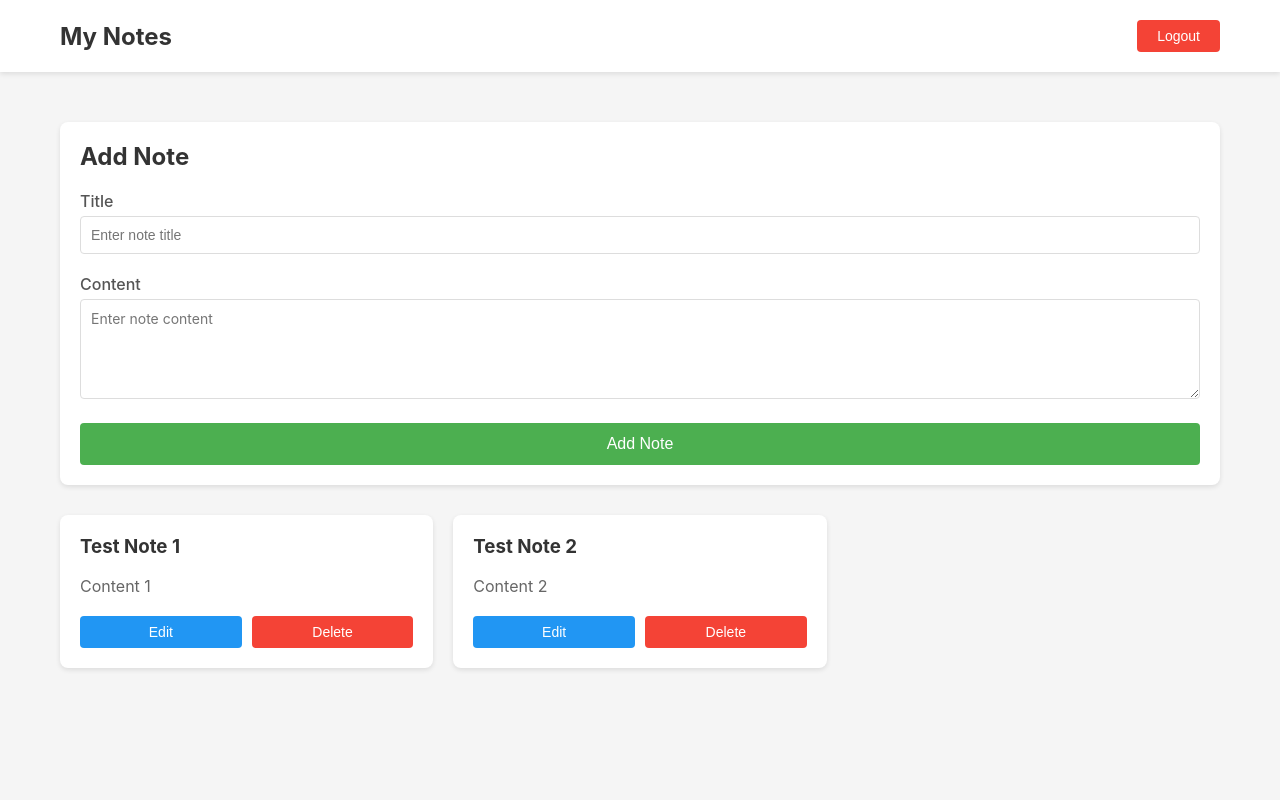
Scenario: NotesPage › deletes a note
This screenshot has width=1280, height=800.
Expected: the heading "Test Note 1" is shown, [80,535,180,558]
Click the button "Delete" below "Content 1": (333, 632) [252,616,413,648]
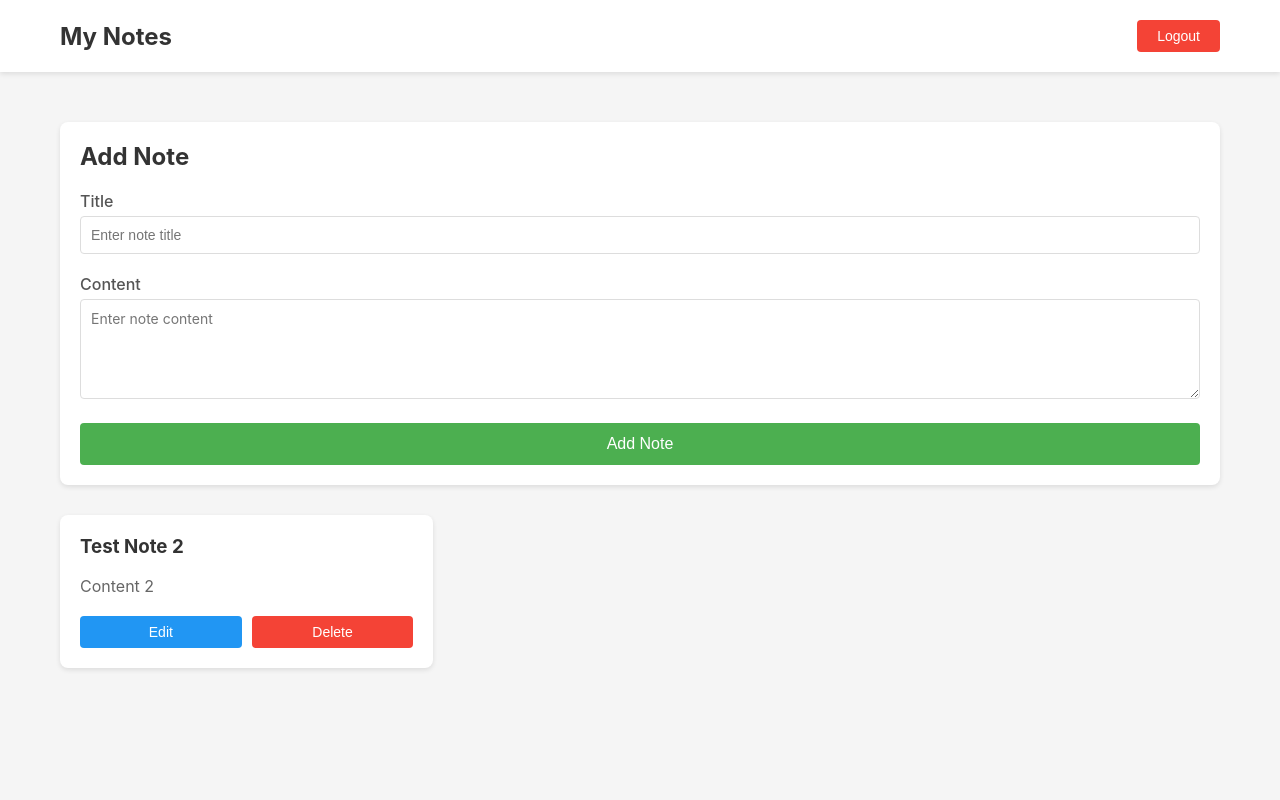
Expected: the heading "Test Note 1" is gone
